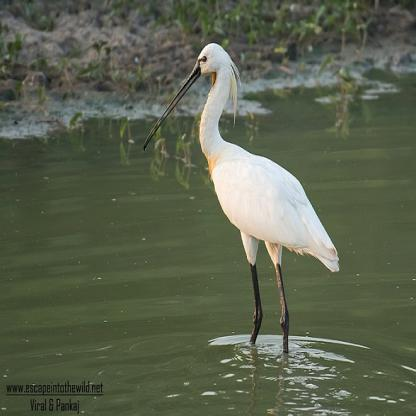Burung: (142, 42, 338, 345)
